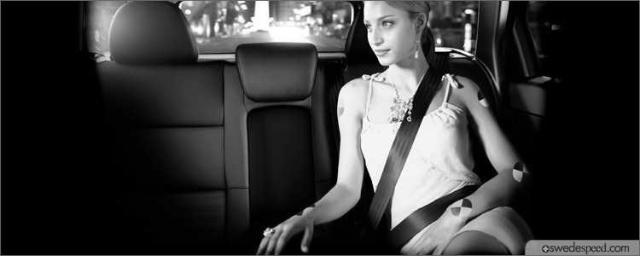SafeDriving: (378, 14, 396, 28)
Seatbelt: (368, 64, 482, 256)
